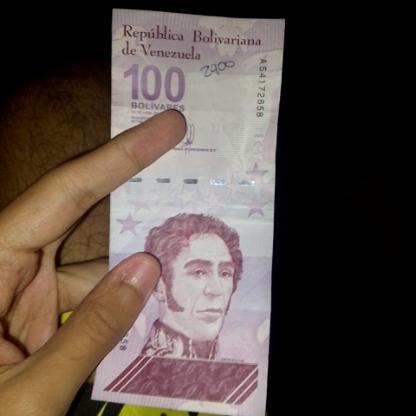one_hundred-front-vef: (100, 13, 280, 416)
